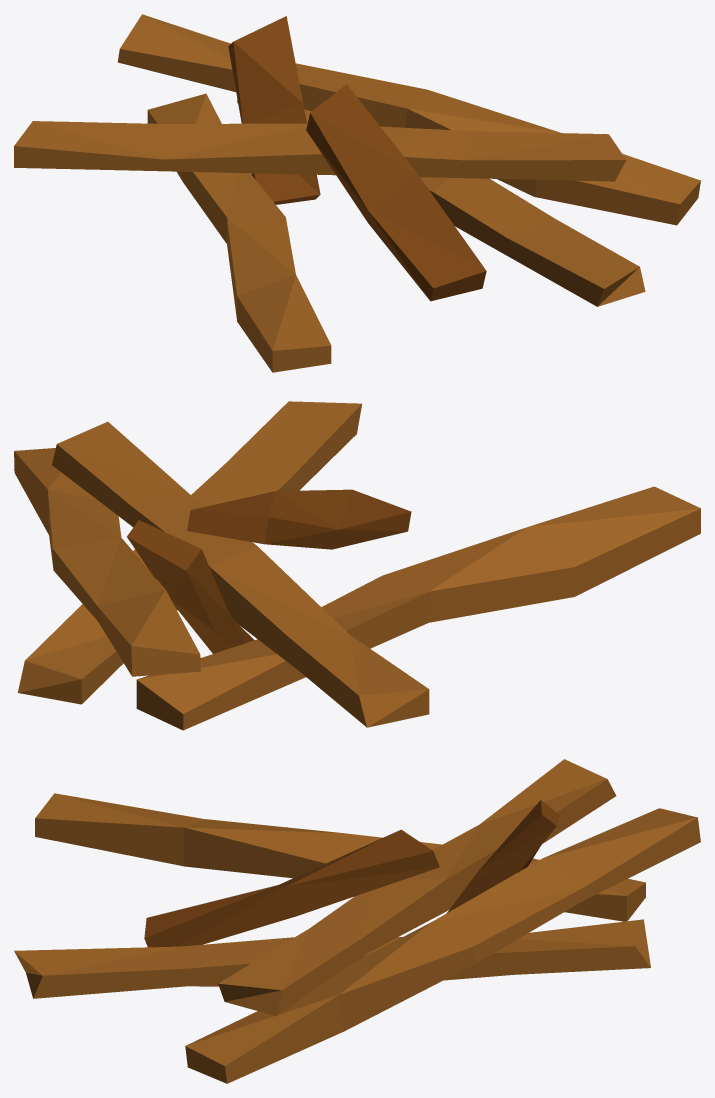
The model's file is Group_Plank_03.fbx.
The picture shows the model from 3 angles, top to bottom: view 1: azimuth 30°, elevation 25°; view 2: azimuth 150°, elevation 25°; view 3: azimuth 270°, elevation 25°; orthographic projection. The views are drawn at different scales.
Visible parts, largest first — view 1: Planks_Group_03; view 2: Planks_Group_03; view 3: Planks_Group_03.
Part boxes in pixels (bbox=[...]): Planks_Group_03: bbox=[14, 14, 700, 372]; Planks_Group_03: bbox=[14, 401, 700, 730]; Planks_Group_03: bbox=[14, 759, 700, 1083].
Size of the model in its own units: 2.51 by 0.6705 by 2.76.
